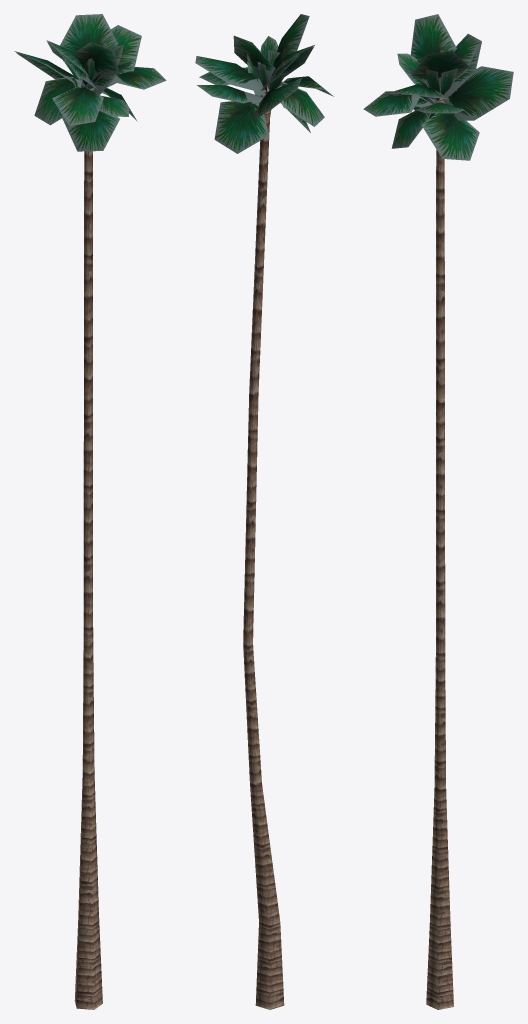
File: palm_tree_e.fbx
The picture shows the model from 3 angles, left to right: view 1: azimuth 90°, elevation 25°; view 2: azimuth 210°, elevation 25°; view 3: azimuth 270°, elevation 25°; orthographic projection.
Parts seen in each view (by area): view 1: hi_trunk_a, hi_leaf_c; view 2: hi_trunk_a, hi_leaf_c; view 3: hi_leaf_c, hi_trunk_a.
Boxes of the visible parts, x1,y1,x2,y2 form: hi_trunk_a: [74, 88, 102, 1009]; hi_leaf_c: [14, 14, 166, 151]; hi_trunk_a: [243, 86, 284, 1009]; hi_leaf_c: [195, 14, 333, 153]; hi_leaf_c: [363, 14, 513, 160]; hi_trunk_a: [426, 92, 453, 1009].
Size of the model in its own units: 1698 by 13090 by 1840.
2 materials, 2 textured.
